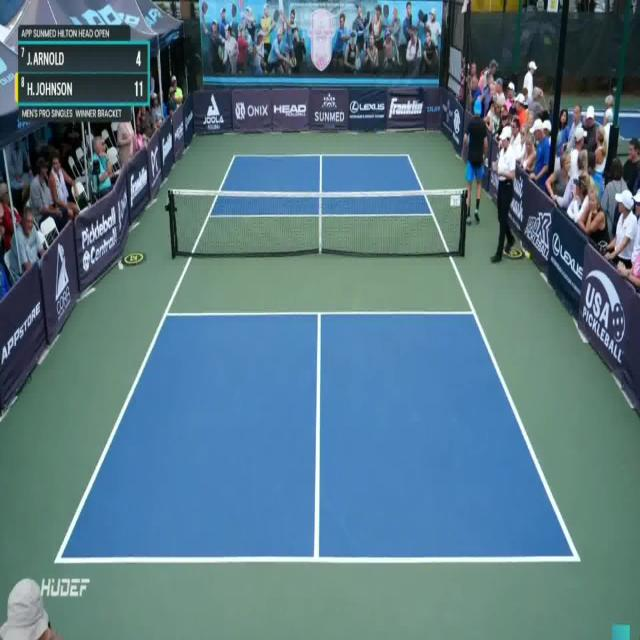Court: (58, 151, 579, 560)
